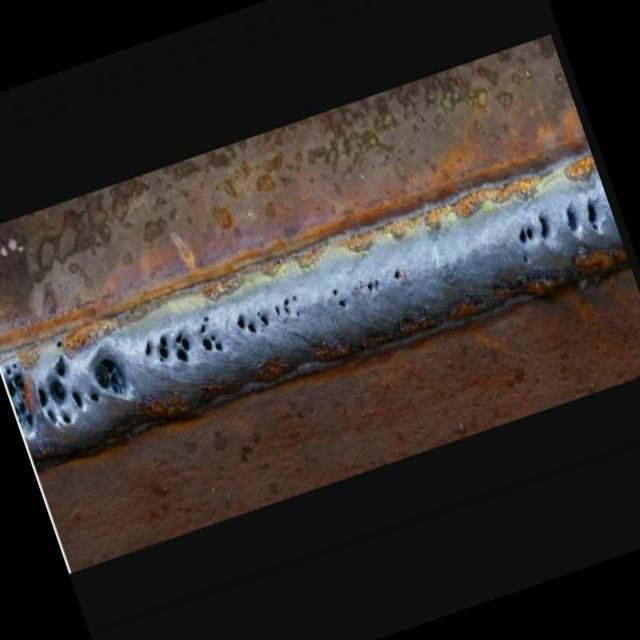defect: (34, 336, 133, 432), (3, 361, 35, 431), (515, 212, 552, 266), (198, 312, 227, 355), (231, 309, 272, 337), (272, 292, 302, 319), (174, 329, 192, 368), (585, 194, 600, 234), (564, 204, 579, 236), (154, 333, 169, 365), (329, 286, 350, 308), (364, 276, 380, 295), (142, 339, 152, 357), (391, 267, 403, 281)
